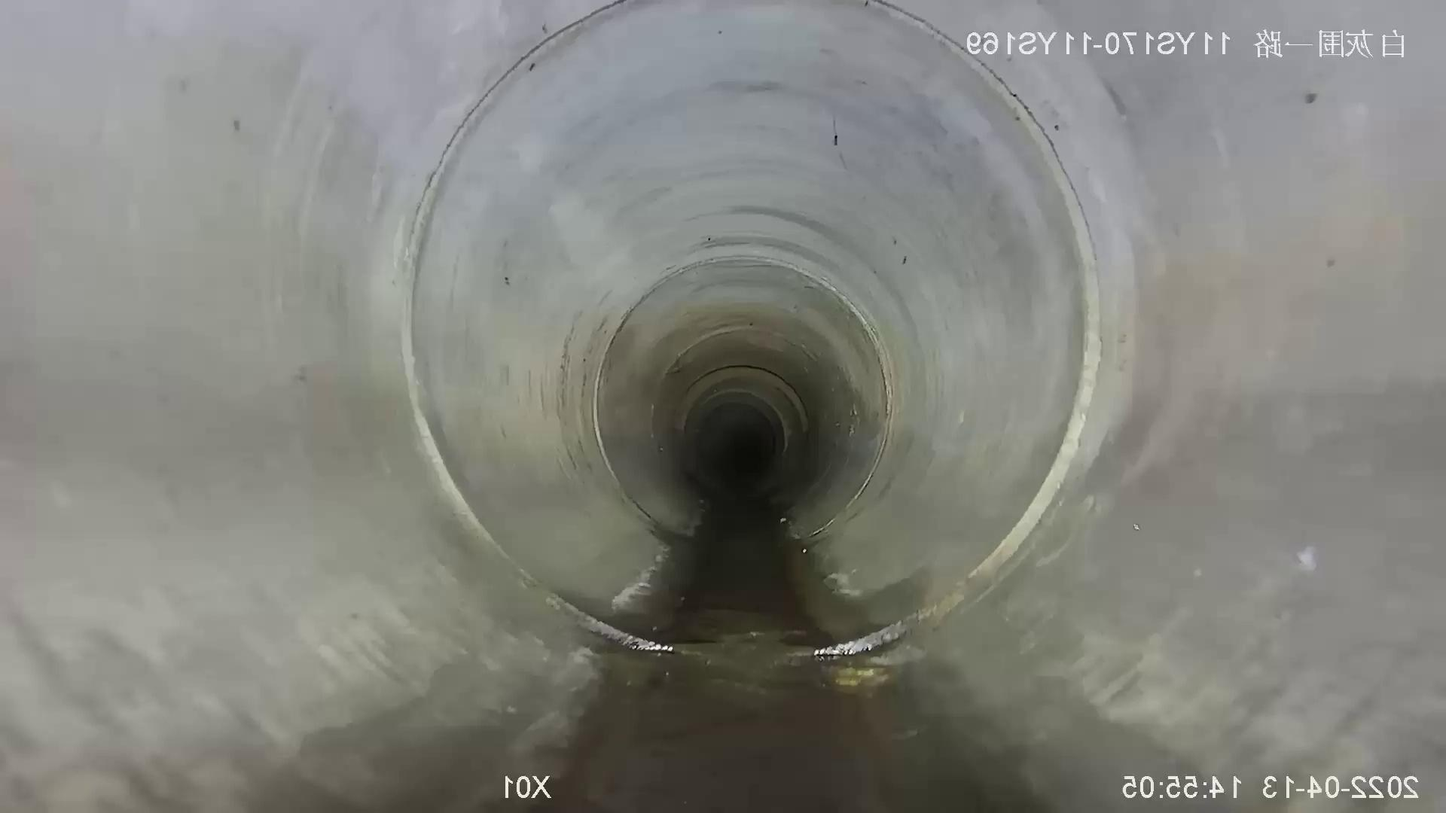CKTJ: (813, 0, 1103, 659), (398, 0, 638, 558), (589, 254, 893, 507), (548, 589, 674, 653), (624, 487, 659, 523)
